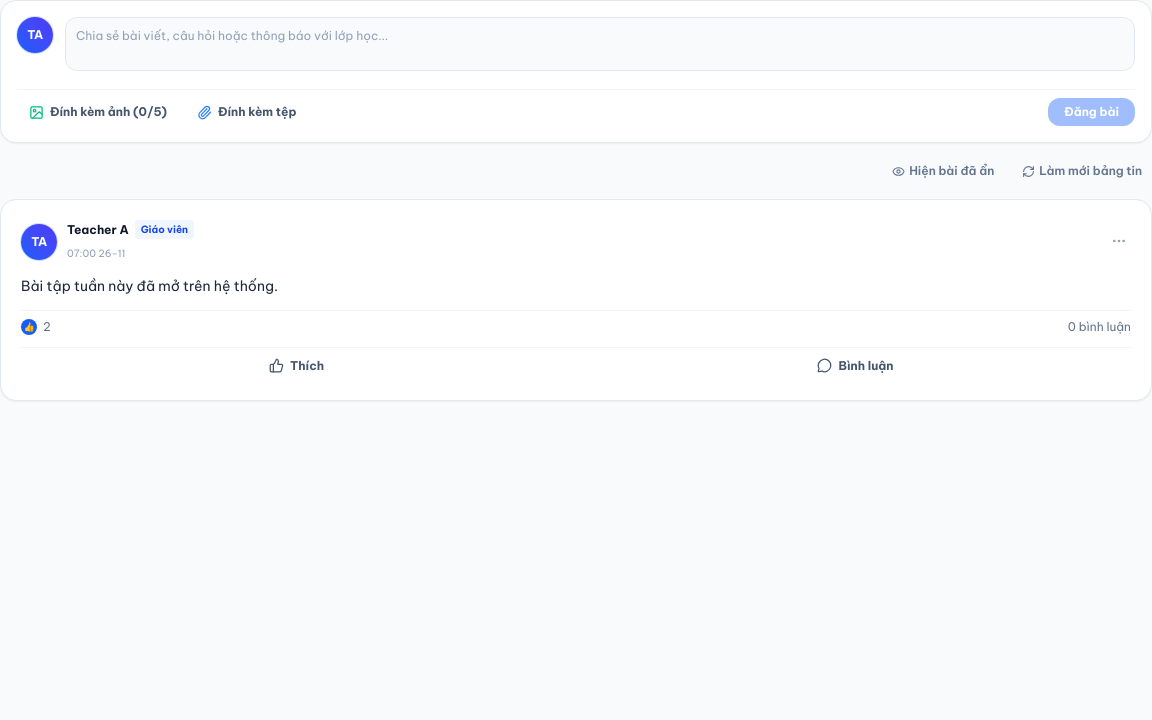
Scenario: ClassFeedView › hỗ trợ sửa bài viết kèm lịch sử chỉnh sửa thật và lưu tùy chọn ẩn/theo dõi xuống DB
Later steps or results of the test are not shown.
Expected: the text "Bài tập tuần này đã mở trên hệ thống." is shown, [21,277,278,295]
Click the button named "Tùy chọn bài viết": [1119, 240] box [1107,228,1131,252]
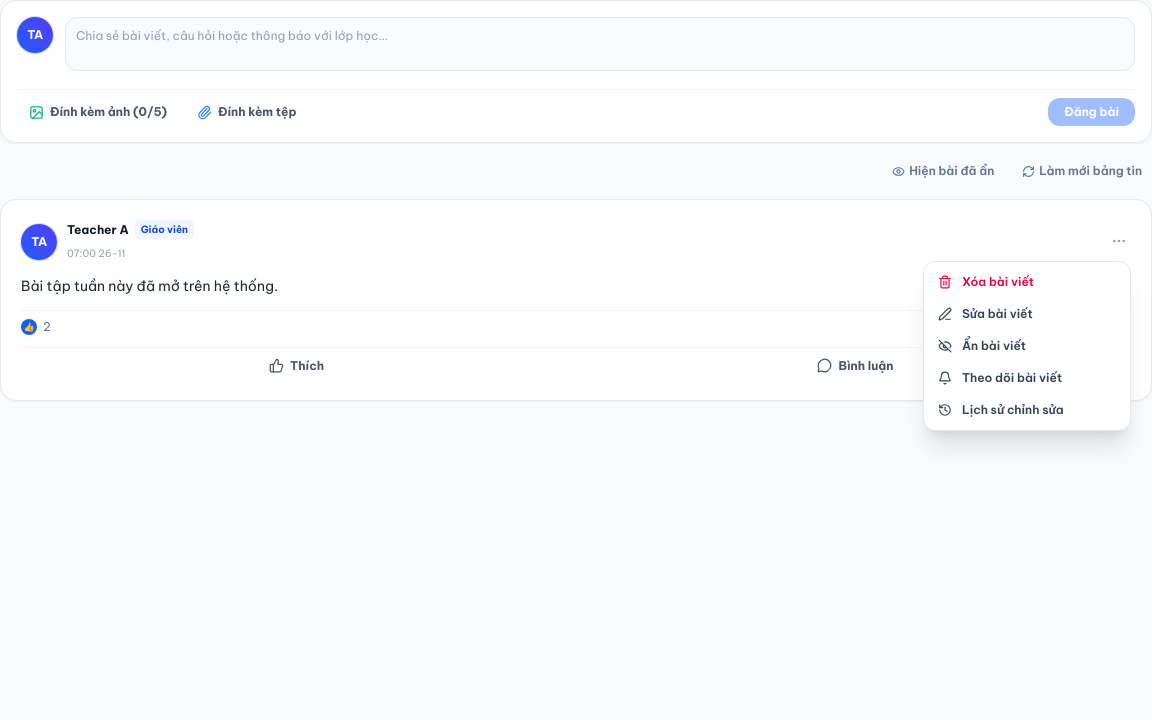
Click the button "Sửa bài viết": [1027, 314] box [924,298,1130,330]
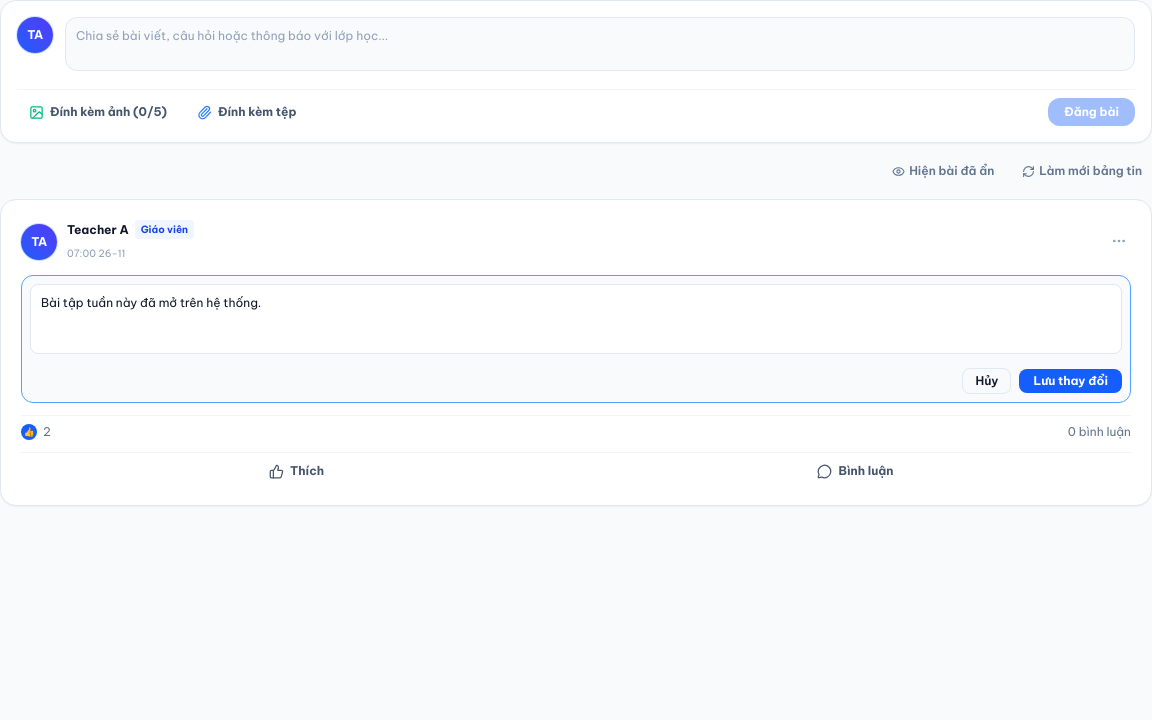
Replace the text in the text box named "Chỉnh sửa nội dung bài viết" with "Nội dung đã cập nhật lịch thi.": [576, 319] box [30,284,1122,354]
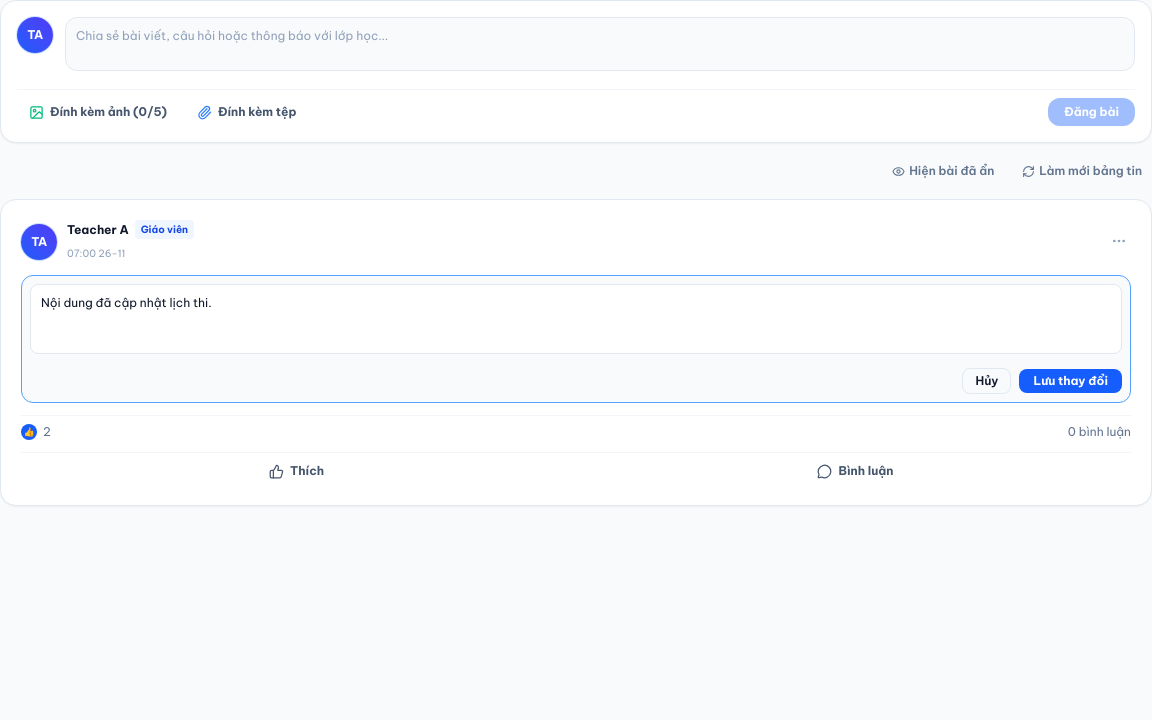
Click the button "Lưu thay đổi": [1071, 381] box [1020,369,1122,393]
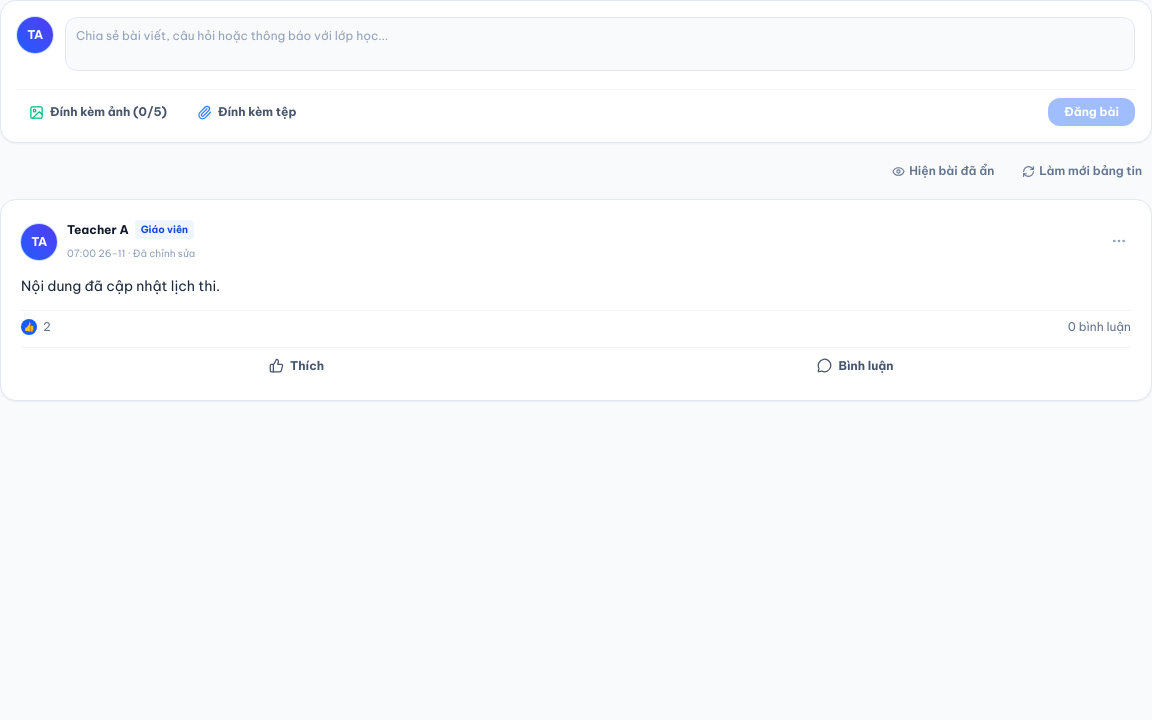
Expected: the text "Nội dung đã cập nhật lịch thi." is shown, [21,277,220,295]
Note: Mở lịch sử chỉnh sửa
Click the button named "Tùy chọn bài viết": [1119, 240] box [1107,228,1131,252]
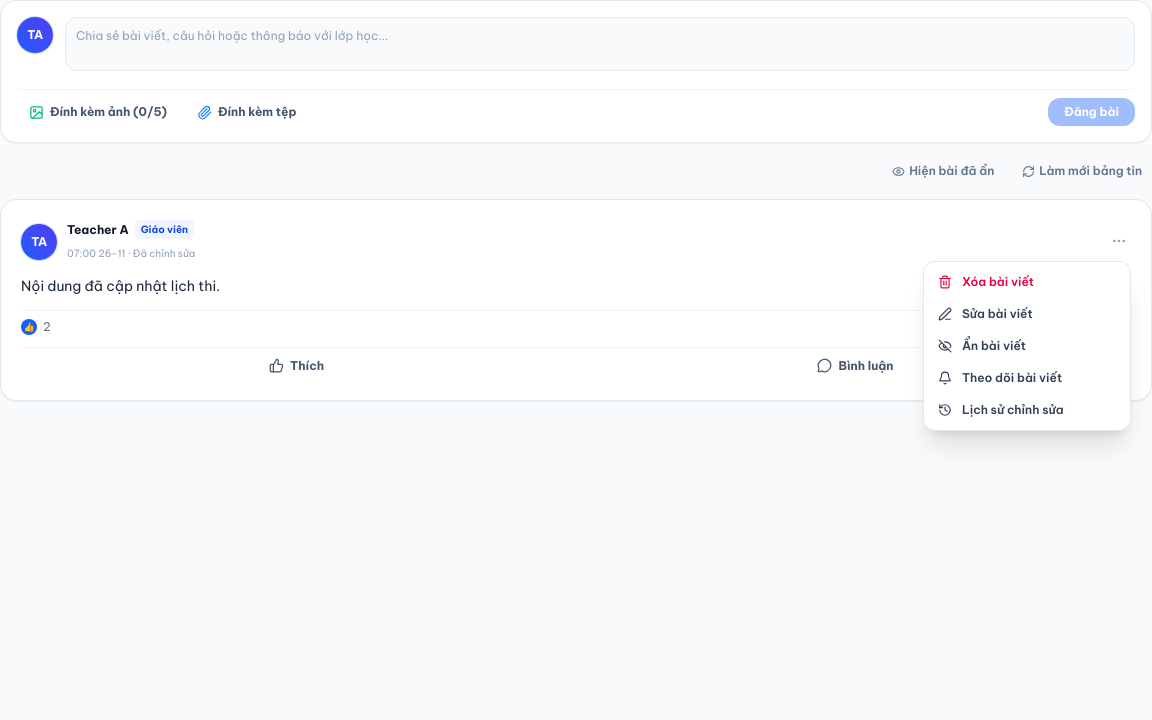
Click the button "Lịch sử chỉnh sửa": [1027, 410] box [924,394,1130,426]
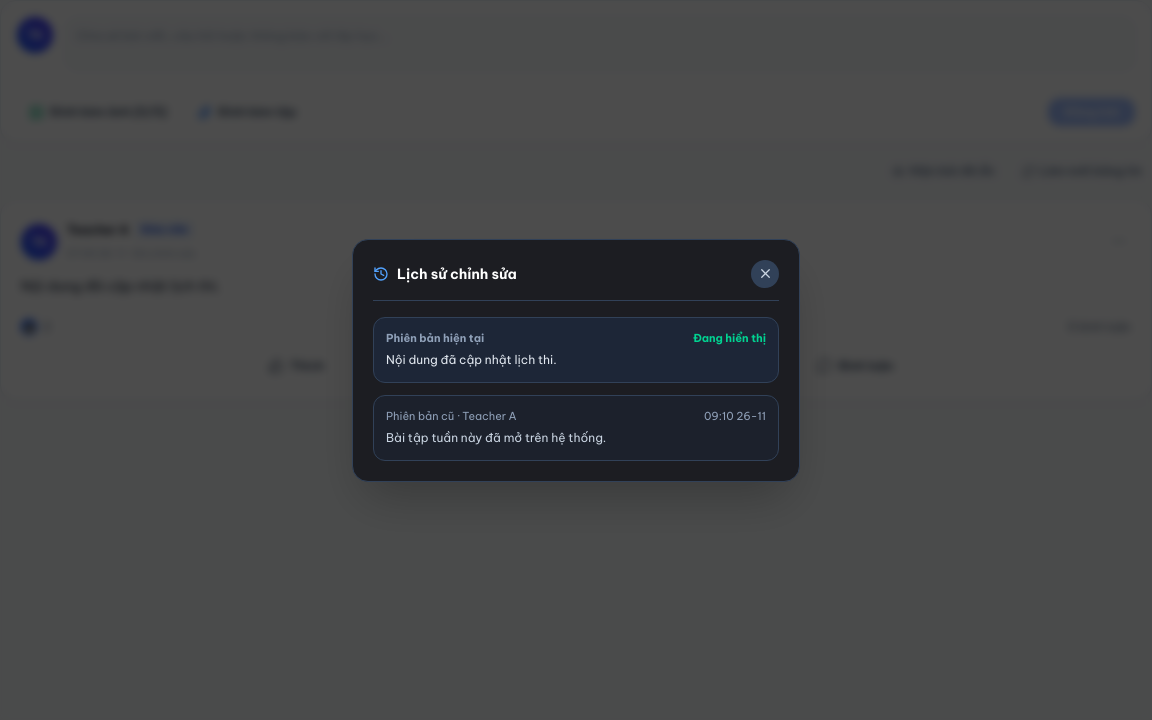
Expected: the text "Bài tập tuần này đã mở trên hệ thống." is shown, [386,430,606,445]
